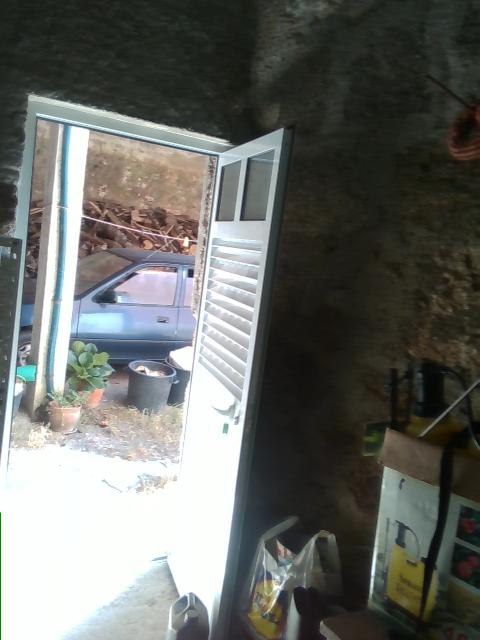door: (166, 125, 292, 638)
